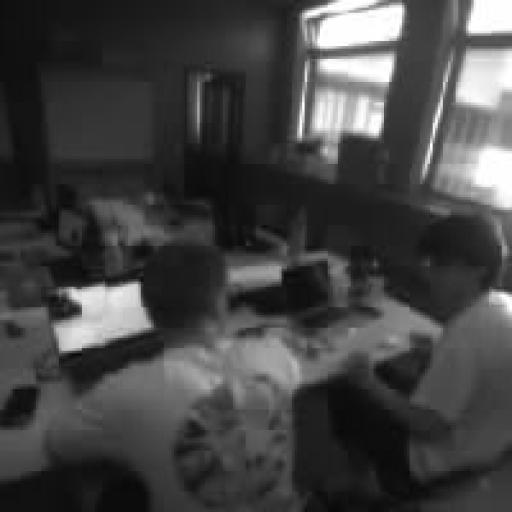human: (47, 241, 299, 511), (328, 213, 511, 496)
